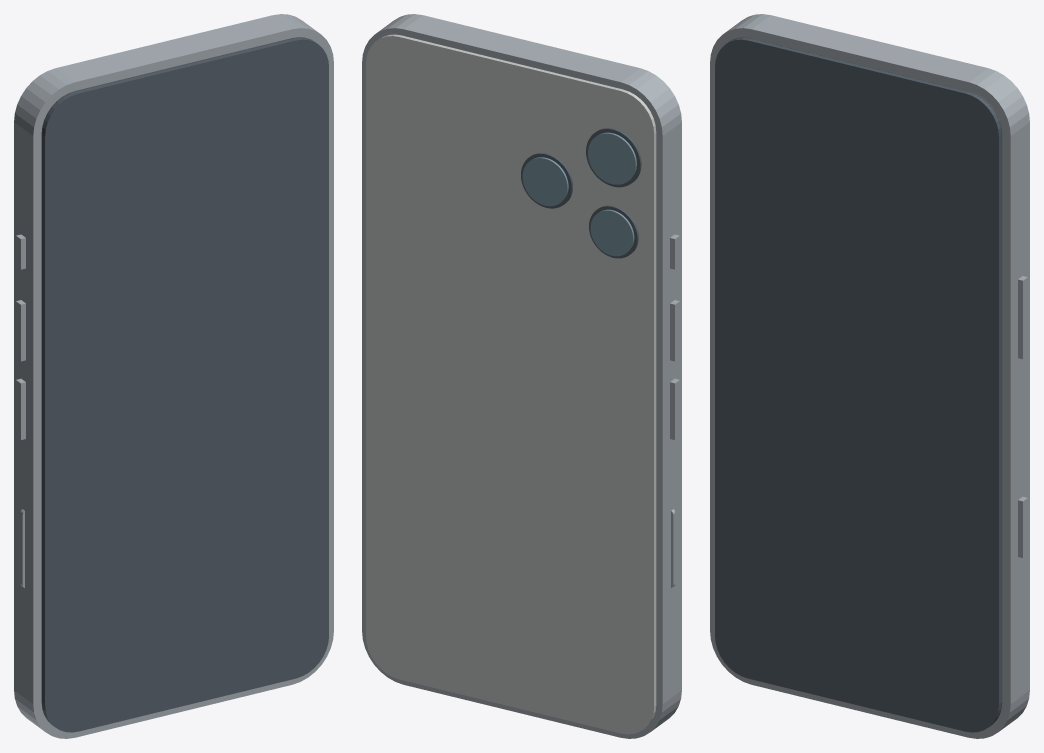
File: assembly.glb
The picture shows the model from 3 angles, left to right: view 1: azimuth 30°, elevation 25°; view 2: azimuth 150°, elevation 25°; view 3: azimuth 330°, elevation 25°; orthographic projection.
Visible parts, largest first — view 1: part-004, part-000, part-003, part-048, part-047; view 2: part-002, part-000, part-023, part-027, part-025, part-022, part-048, part-047, part-026, part-024; view 3: part-004, part-000, part-003, part-049, part-050.
Boxes of the visible parts, x1,y1,x2,y2 form: part-004: (42,37,328,732); part-000: (14,14,333,738); part-003: (41,37,311,724); part-048: (16,378,25,439); part-047: (16,300,25,361); part-002: (366,34,656,734); part-000: (362,14,681,738); part-023: (588,132,636,184); part-027: (522,157,568,206); part-025: (590,209,634,256); part-022: (586,128,641,187); part-048: (670,378,679,439); part-047: (670,300,679,361); part-026: (521,153,572,208); part-024: (589,205,638,258); part-004: (715,37,1001,732); part-000: (710,14,1029,738); part-003: (732,37,1002,724); part-049: (1018,276,1027,359); part-050: (1018,496,1027,557).
Bounding box in the file's own units: 0.0745 × 0.1504 × 0.0115.
